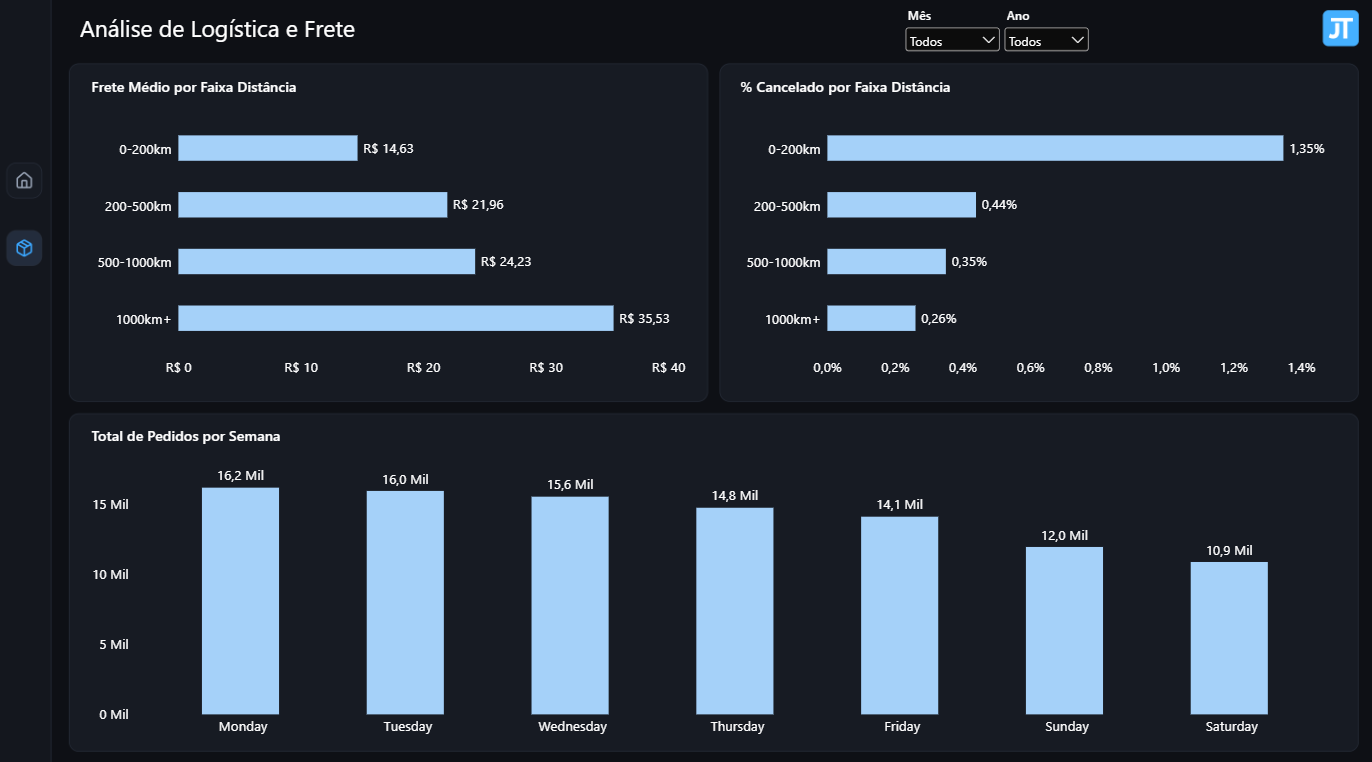

What the dashboard file says about the page in this screenshot:
{"tool":"powerbi","page":{"name":"Logística e Frete","canvas":[1920,1080],"ordinal":1},"visuals":[{"type":"clusteredBarChart","fields":{"Category":["fact_orders.Faixa Distância"],"Y":["Medidas.Frete Médio"]},"box":[115.7,101.1,861.9,453.5],"z":0},{"type":"clusteredBarChart","fields":{"Category":["fact_orders.Faixa Distância"],"Y":["Medidas.% Cancelado"]},"box":[1018.8,101.1,865.9,453.5],"z":1000},{"type":"clusteredColumnChart","title":"Total de Pedidos por Semana","fields":{"Category":["fact_orders.purchase_weekday"],"Y":["Medidas.Total de Pedidos"]},"box":[115.7,587.9,1769,466.8],"z":2000},{"type":"textbox","box":[115.6,26.5,664.1,47.3],"z":2001},{"type":"actionButton","box":[15,238.1,46,46],"z":2002},{"type":"slicer","fields":{"Values":["dCalendario.Ano"]},"box":[1397.9,18.1,126.7,64],"z":2003},{"type":"slicer","fields":{"Values":["dCalendario.MesNome"]},"box":[1260,18.1,140.6,64],"z":2004}]}

Visuals, with their boxes on the page's 1920x1080 design canvas (x1, y1, x2, y2). These are canvas units, not pixel positions in the 1372x762 screenshot, which may show the page scaled, cropped or inside an application window:
clusteredBarChart - fact_orders.Faixa Distância x Medidas.Frete Médio: (116,101,978,555)
clusteredBarChart - fact_orders.Faixa Distância x Medidas.% Cancelado: (1019,101,1885,555)
"Total de Pedidos por Semana" clusteredColumnChart: (116,588,1885,1055)
textbox: (116,26,780,74)
actionButton: (15,238,61,284)
slicer - dCalendario.Ano: (1398,18,1525,82)
slicer - dCalendario.MesNome: (1260,18,1401,82)
